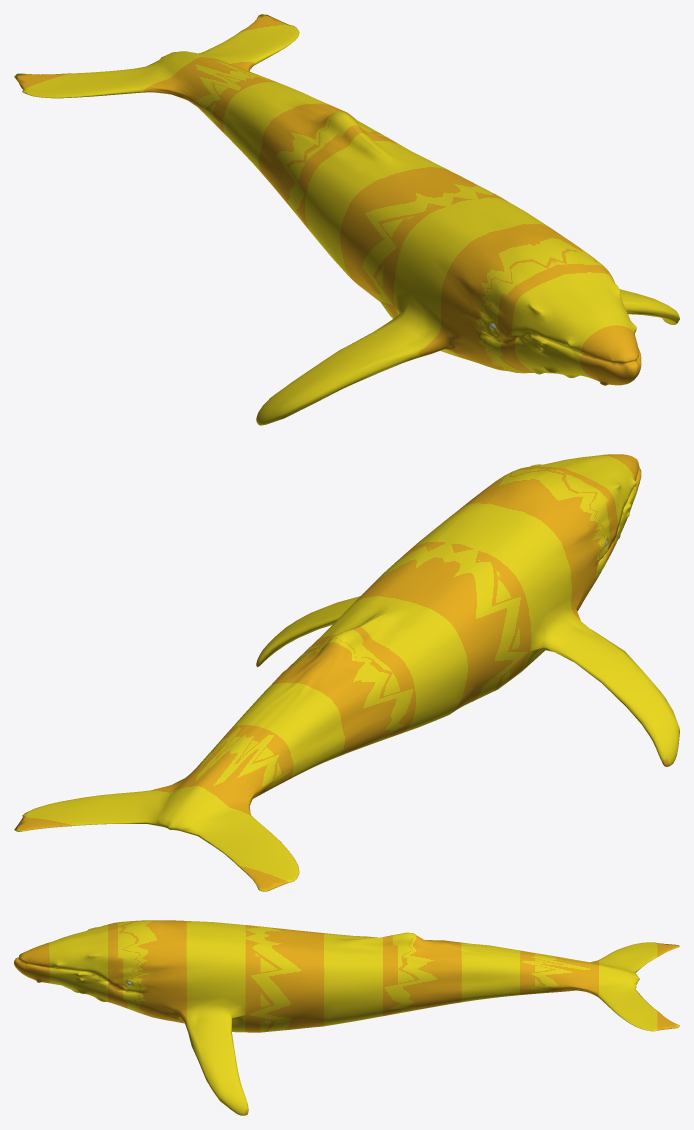
File: Whale.obj
3 views of the same model, one above another, from view 1: azimuth 30°, elevation 25°; view 2: azimuth 150°, elevation 25°; view 3: azimuth 270°, elevation 25° (orthographic). The views are drawn at different scales.
Visible parts, largest first — view 1: hmp_body; view 2: hmp_body; view 3: hmp_body.
Part boxes in pixels (<box>): hmp_body: <box>14,14,679,425</box>; hmp_body: <box>14,454,679,891</box>; hmp_body: <box>14,920,679,1115</box>.
Bounding box in the file's own units: 8.23 × 3.52 × 17.06.
